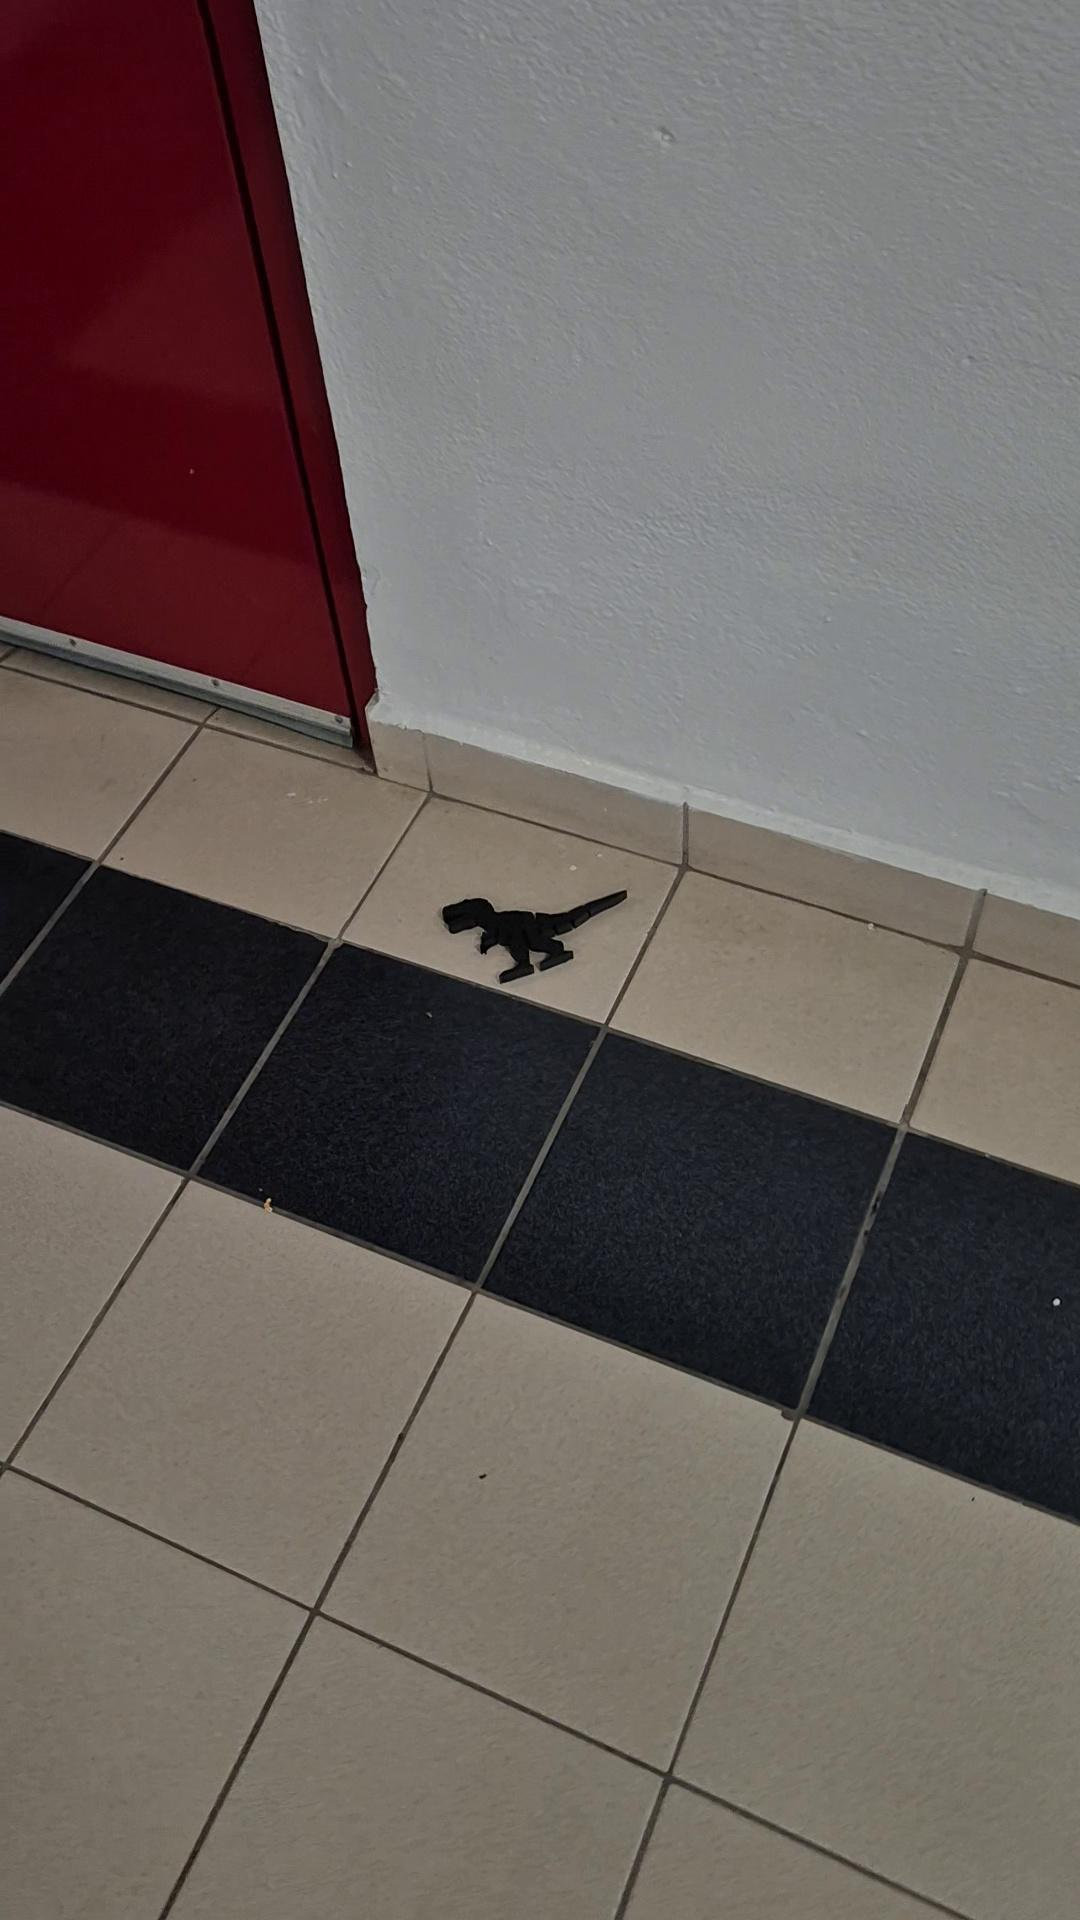dinosaur: (440, 889, 629, 985)
